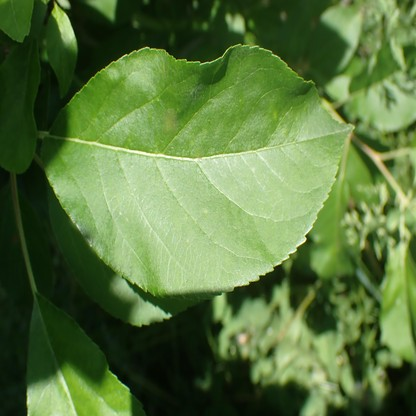scab: (163, 109, 178, 135), (196, 149, 201, 158)
